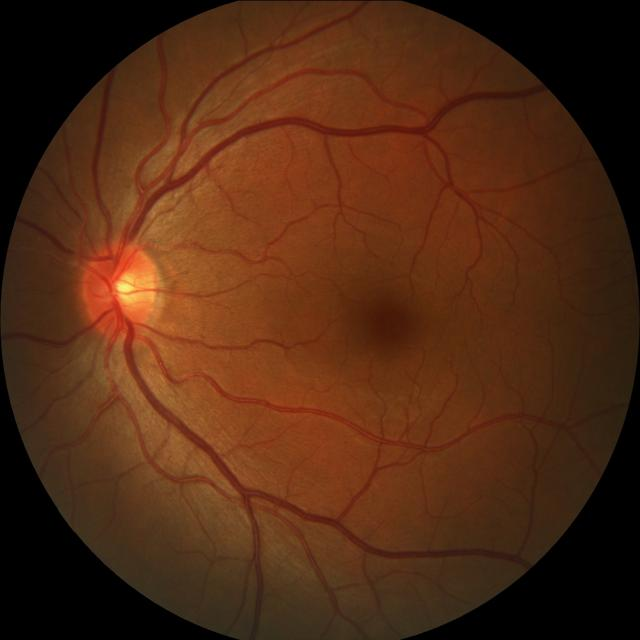OC: (103, 268, 148, 309)
OD: (82, 242, 162, 337)
